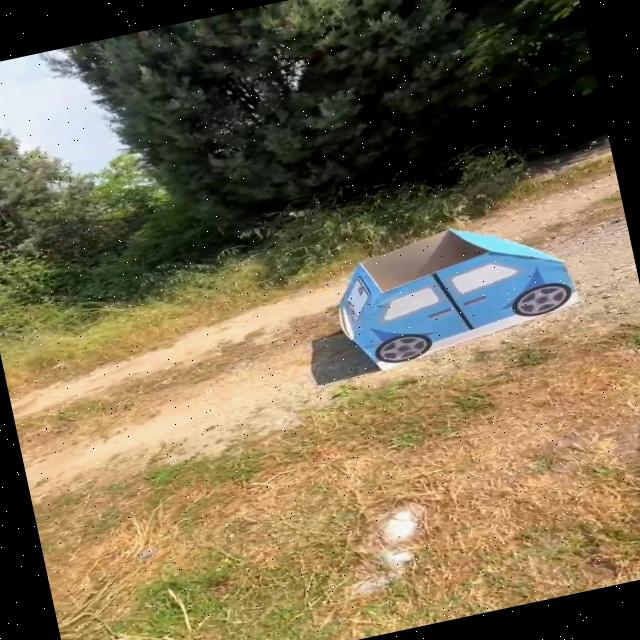blue_car: (314, 186, 608, 395)
